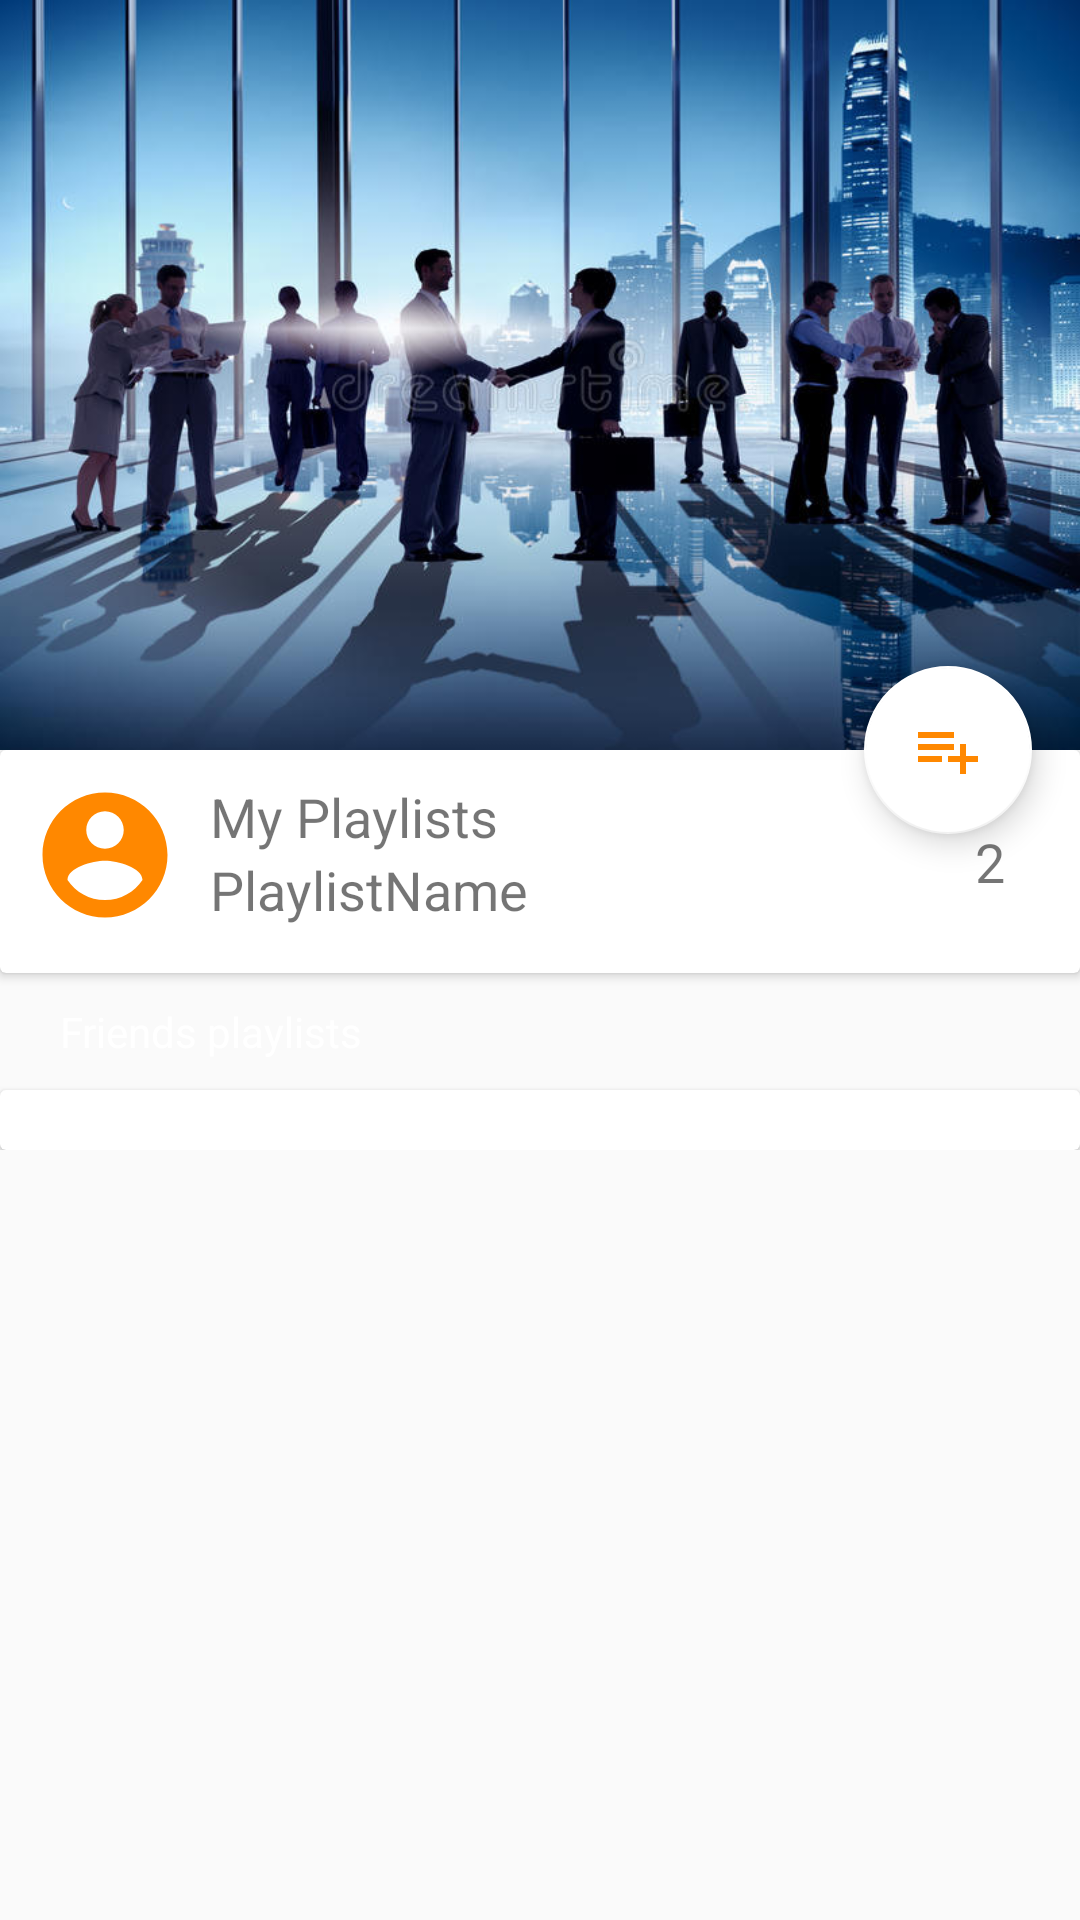

Icons on this 1080w x 1920h Android screen, each with the point to tap as [x,y]:
playlist add: [948,750]
profileimage: [105,855]
